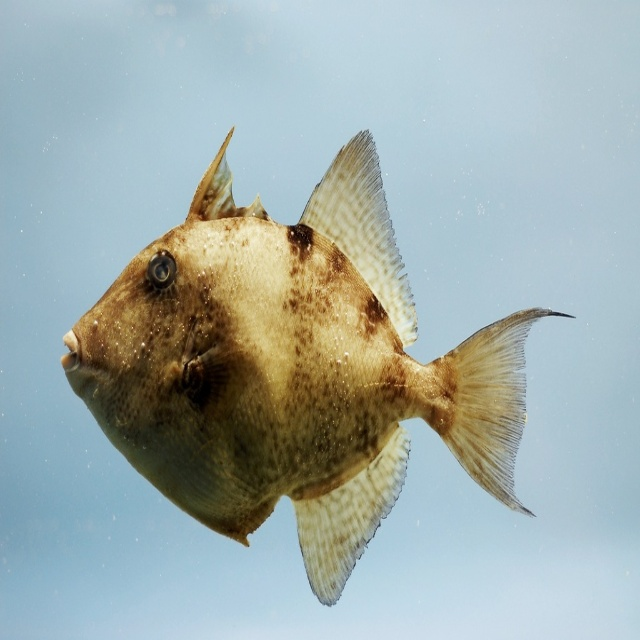Fish: (59, 120, 579, 604)
